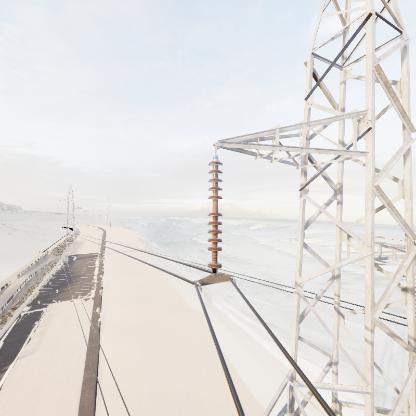insulator: (203, 157, 227, 276)
